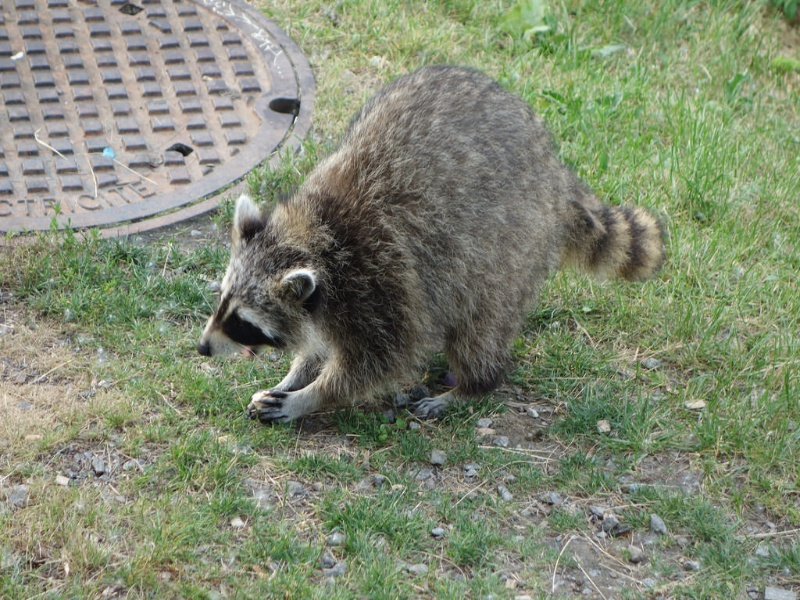raccoon: (196, 63, 672, 432)
